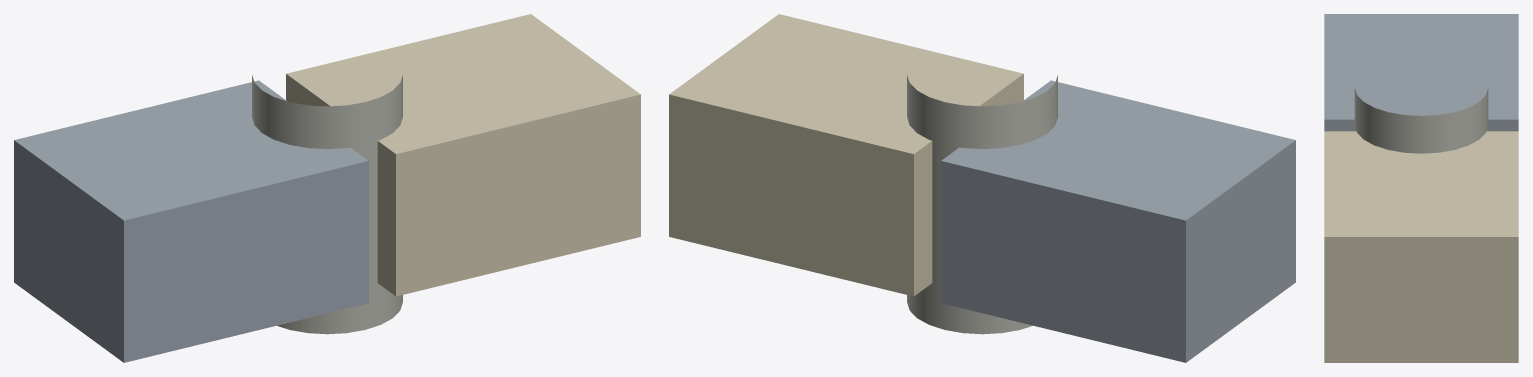
The model's file is job_matrix_laser_phosphor_cooling_copper_bracket.glb.
3 views of the same model, side by side, from view 1: azimuth 30°, elevation 25°; view 2: azimuth 150°, elevation 25°; view 3: azimuth 270°, elevation 25° (orthographic). The views are drawn at different scales.
Visible parts, largest first — view 1: node_ttrs_laser_phosphor_cu_of_cooling_coldplate, node_ttrs_laser_phosphor_fluorosilicone_carrier_seal, node_ttrs_laser_phosphor_sintered_heatpipe_tube; view 2: node_ttrs_laser_phosphor_cu_of_cooling_coldplate, node_ttrs_laser_phosphor_fluorosilicone_carrier_seal, node_ttrs_laser_phosphor_sintered_heatpipe_tube; view 3: node_ttrs_laser_phosphor_fluorosilicone_carrier_seal, node_ttrs_laser_phosphor_cu_of_cooling_coldplate, node_ttrs_laser_phosphor_sintered_heatpipe_tube.
Part boxes in pixels (<box>): node_ttrs_laser_phosphor_cu_of_cooling_coldplate: <box>14,80,368,362</box>; node_ttrs_laser_phosphor_fluorosilicone_carrier_seal: <box>286,14,640,296</box>; node_ttrs_laser_phosphor_sintered_heatpipe_tube: <box>252,75,402,334</box>; node_ttrs_laser_phosphor_cu_of_cooling_coldplate: <box>941,80,1295,362</box>; node_ttrs_laser_phosphor_fluorosilicone_carrier_seal: <box>669,14,1023,296</box>; node_ttrs_laser_phosphor_sintered_heatpipe_tube: <box>907,75,1057,334</box>; node_ttrs_laser_phosphor_fluorosilicone_carrier_seal: <box>1324,131,1518,362</box>; node_ttrs_laser_phosphor_cu_of_cooling_coldplate: <box>1324,14,1518,131</box>; node_ttrs_laser_phosphor_sintered_heatpipe_tube: <box>1354,88,1488,153</box>.
Bounding box in the file's own units: 0.95 × 0.4 × 0.35.
